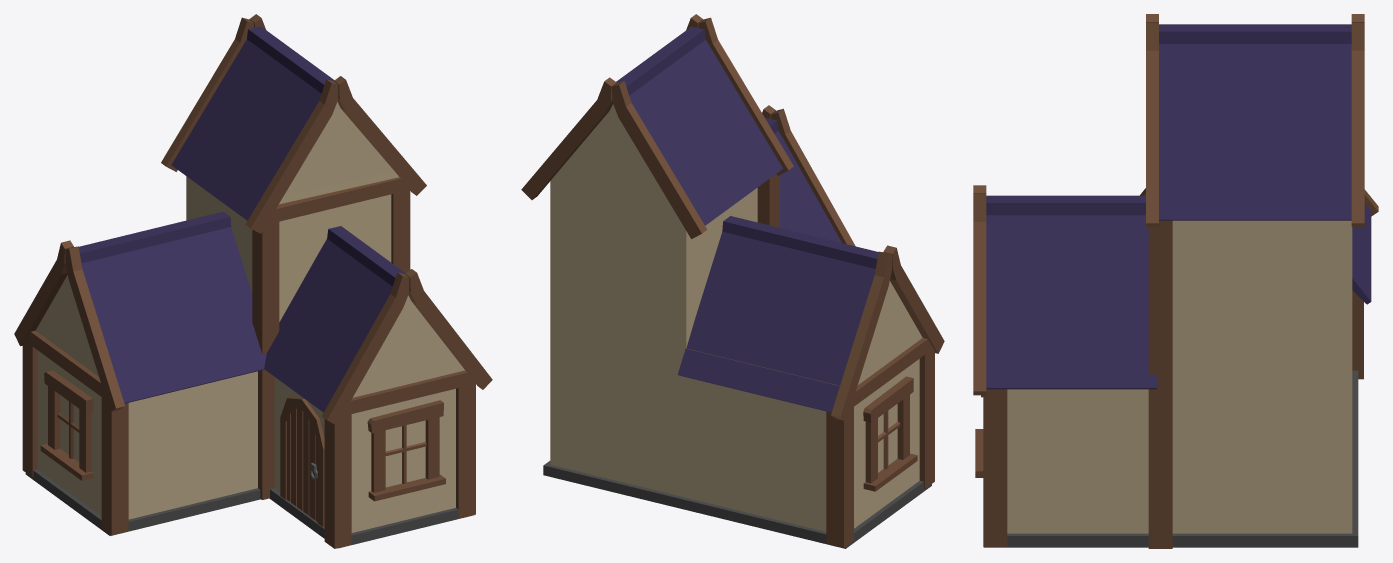
File: House_1.fbx
3 renders of one model, left to right at view 1: azimuth 30°, elevation 25°; view 2: azimuth 150°, elevation 25°; view 3: azimuth 270°, elevation 25°, orthographic. The views are drawn at different scales.
Visible parts, largest first — view 1: Cube, 03_krisha.002, 03_krisha, 03_krisha.001, 02_stolby_krisha, Cube.002, 02_stolby_krisha.001, 02_stolby_krisha.002, 18_rama_okno_vertik.003, Cube.003, Cube.004, 18_rama_okno_vertik.002 (+8 smaller); view 2: Cube, 03_krisha.002, 03_krisha, 02_stolby_krisha, 02_stolby_krisha.002, 18_rama_okno_vertik.002, Cube.001, 03_krisha.001, Cube.004, 02_stolby_krisha.001, Cube.006, Cube.002; view 3: Cube, 03_krisha, 03_krisha.001, Cube.011, 02_stolby_krisha, Cube.007, 02_stolby_krisha.001, 03_krisha.002, Cube.001.
Boxes of the visible parts, x1=… form: Cube: x1=25, y1=102, x2=474, y2=548; 03_krisha.002: x1=78, y1=211, x2=266, y2=403; 03_krisha: x1=171, y1=26, x2=334, y2=220; 03_krisha.001: x1=264, y1=226, x2=405, y2=412; 02_stolby_krisha: x1=161, y1=14, x2=426, y2=233; Cube.002: x1=252, y1=222, x2=279, y2=499; 02_stolby_krisha.001: x1=322, y1=269, x2=492, y2=425; 02_stolby_krisha.002: x1=14, y1=240, x2=124, y2=411; 18_rama_okno_vertik.003: x1=367, y1=400, x2=445, y2=501; Cube.003: x1=324, y1=414, x2=351, y2=548; Cube.004: x1=101, y1=397, x2=128, y2=535; 18_rama_okno_vertik.002: x1=40, y1=370, x2=93, y2=480; Cube: x1=543, y1=104, x2=931, y2=548; 03_krisha.002: x1=677, y1=216, x2=878, y2=412; 03_krisha: x1=616, y1=26, x2=783, y2=225; 02_stolby_krisha: x1=521, y1=14, x2=793, y2=238; 02_stolby_krisha.002: x1=831, y1=245, x2=944, y2=421; 18_rama_okno_vertik.002: x1=863, y1=376, x2=917, y2=491; Cube.001: x1=826, y1=407, x2=853, y2=548; 03_krisha.001: x1=765, y1=117, x2=841, y2=242; Cube.004: x1=919, y1=347, x2=934, y2=488; 02_stolby_krisha.001: x1=762, y1=105, x2=855, y2=246; Cube.006: x1=832, y1=338, x2=931, y2=408; Cube.002: x1=757, y1=174, x2=779, y2=227; Cube: x1=984, y1=220, x2=1358, y2=547; 03_krisha: x1=1159, y1=24, x2=1351, y2=220; 03_krisha.001: x1=986, y1=195, x2=1156, y2=389; Cube.011: x1=1148, y1=220, x2=1172, y2=548; 02_stolby_krisha: x1=1146, y1=14, x2=1364, y2=226; Cube.007: x1=983, y1=389, x2=1007, y2=547; 02_stolby_krisha.001: x1=973, y1=185, x2=986, y2=395; 03_krisha.002: x1=1352, y1=203, x2=1371, y2=304; Cube.001: x1=1352, y1=290, x2=1363, y2=379.
Size of the model in its own units: 576 by 688 by 518.
